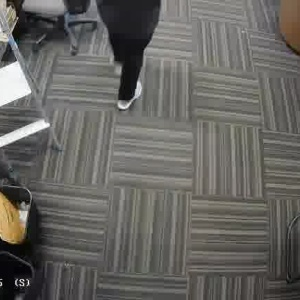person: (97, 0, 164, 109)
